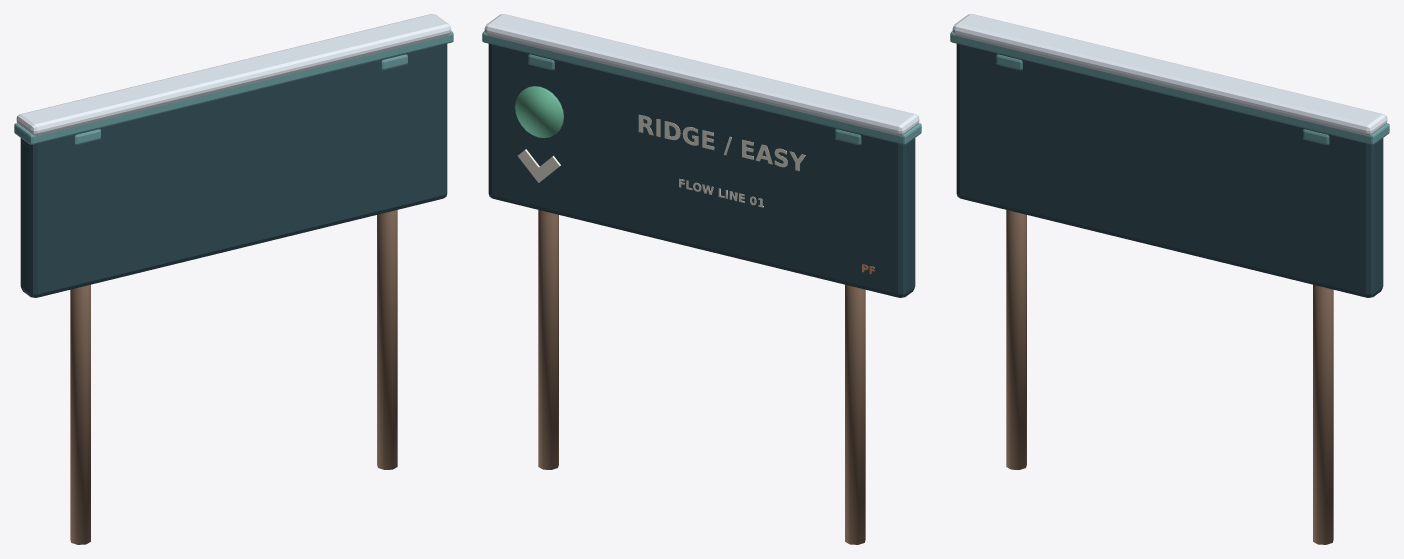
The model's file is SignEasy.fbx.
The picture shows the model from 3 angles, left to right: view 1: azimuth 30°, elevation 25°; view 2: azimuth 150°, elevation 25°; view 3: azimuth 330°, elevation 25°; orthographic projection.
Visible parts, largest first — view 1: Visual_SignEasy; view 2: Visual_SignEasy; view 3: Visual_SignEasy.
Boxes of the visible parts, x1,y1,x2,y2 form: Visual_SignEasy: [14, 14, 453, 544]; Visual_SignEasy: [482, 14, 921, 544]; Visual_SignEasy: [950, 14, 1389, 544].
Size of what is drawn, in the model's own units: 3.4 by 3.32 by 0.268.
